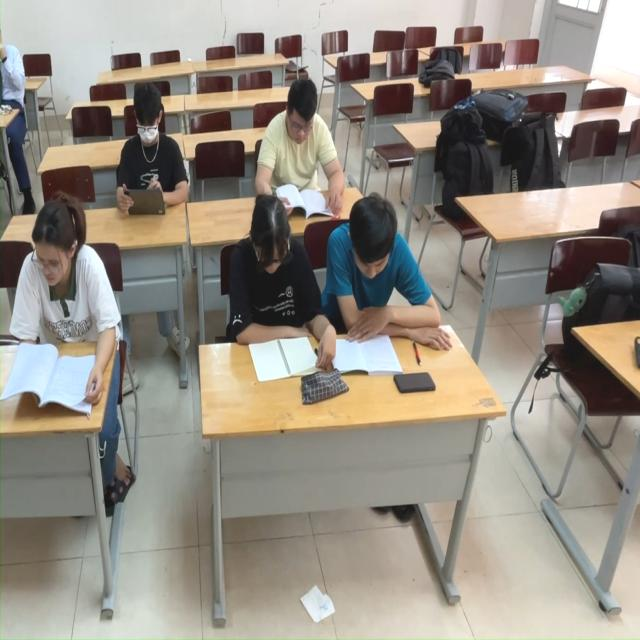read: (1, 204, 103, 441), (331, 180, 429, 387), (227, 211, 323, 346), (116, 86, 187, 228), (253, 86, 338, 201)
